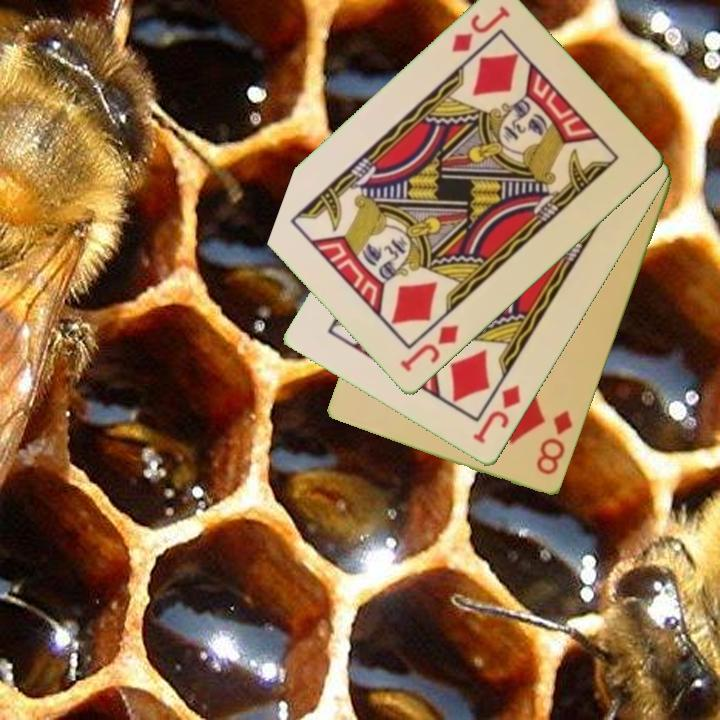8d: (533, 407, 576, 479)
Jd: (469, 382, 524, 448), (396, 321, 462, 376), (448, 3, 513, 56)
